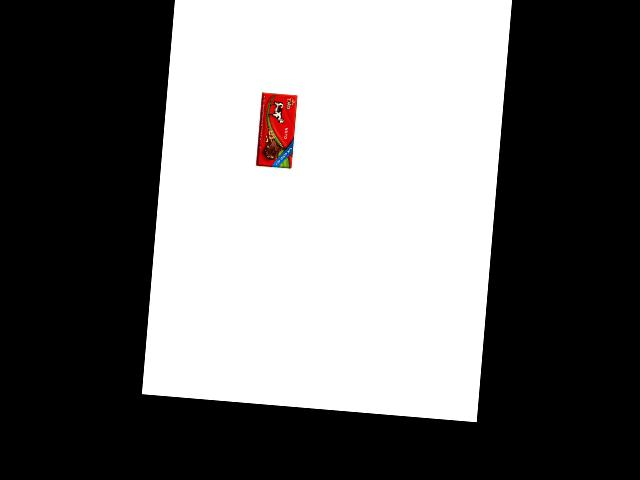chocolate: (256, 89, 298, 168)
